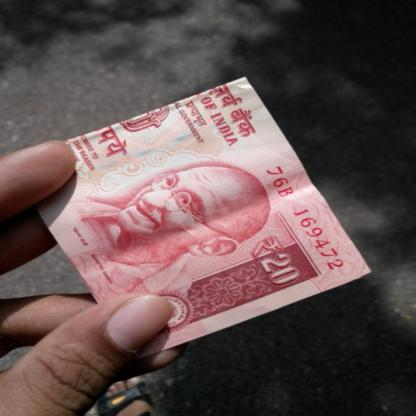Old20Front: (38, 88, 320, 332)
